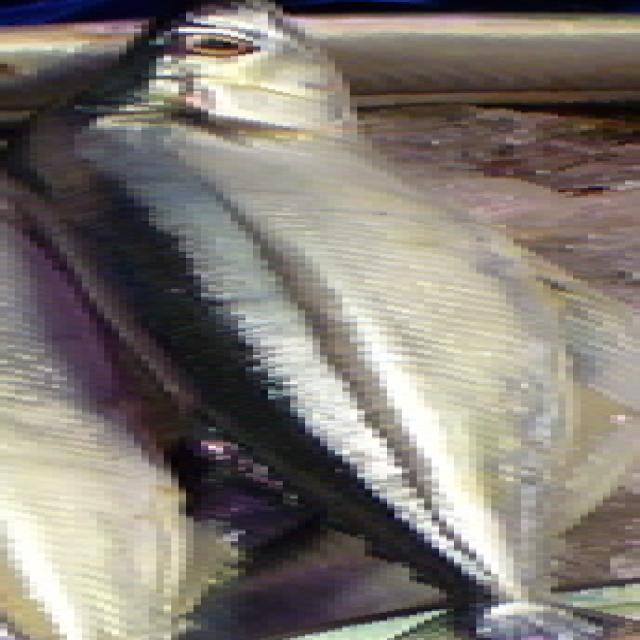fish: (7, 2, 640, 640)
